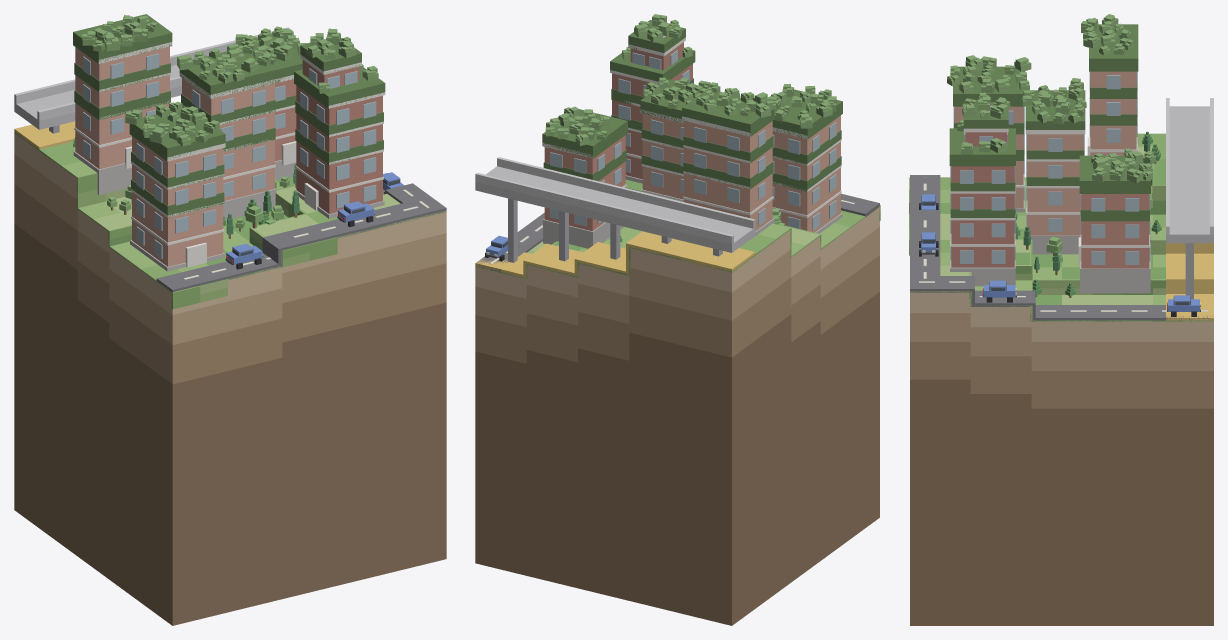
Rendered from block_7_greenroof_50.glb.
3 renders of one model, left to right at view 1: azimuth 30°, elevation 25°; view 2: azimuth 150°, elevation 25°; view 3: azimuth 270°, elevation 25°, orthographic. The views are drawn at different scales.
Parts seen in each view (by area): view 1: Patch_UpperLeft_b04_GR, Green_UpperLeft_j4_b04_GR, Res_UL_09_GR, Res_UL_06_GR, Res_UL_05_GR, Res_UL_08_GR, Roads_UpperLeft_b04_GR, GR_Roof_Res_UL_09_GR, GR_Roof_Res_UL_05_GR, GR_Roof_Res_UL_06_GR, GR_Roof_Res_UL_08_GR, Bridge_UpperLeft_b04_GR (+5 smaller); view 2: Patch_UpperLeft_b04_GR, Bridge_UpperLeft_b04_GR, Res_UL_05_GR, Res_UL_06_GR, Paver_UpperLeft_b04_GR, Res_UL_07_GR, GR_Roof_Res_UL_05_GR, Res_UL_09_GR, Green_UpperLeft_j4_b04_GR, Res_UL_08_GR, GR_Roof_Res_UL_06_GR, GR_Roof_Res_UL_09_GR (+3 smaller); view 3: Patch_UpperLeft_b04_GR, Green_UpperLeft_j4_b04_GR, Bridge_UpperLeft_b04_GR, Res_UL_09_GR, Roads_UpperLeft_b04_GR, Res_UL_07_GR, Res_UL_08_GR, GR_Roof_Res_UL_09_GR, Res_UL_05_GR, Paver_UpperLeft_b04_GR, GR_Roof_Res_UL_05_GR, GR_Roof_Res_UL_07_GR (+5 smaller).
Boxes of the visible parts, <box> form: Patch_UpperLeft_b04_GR: <box>14,133,446,625</box>; Green_UpperLeft_j4_b04_GR: <box>14,131,446,309</box>; Res_UL_09_GR: <box>294,50,385,218</box>; Res_UL_06_GR: <box>130,136,225,271</box>; Res_UL_05_GR: <box>73,42,172,194</box>; Res_UL_08_GR: <box>179,73,277,220</box>; Roads_UpperLeft_b04_GR: <box>156,183,446,292</box>; GR_Roof_Res_UL_09_GR: <box>294,38,385,164</box>; GR_Roof_Res_UL_05_GR: <box>73,14,172,120</box>; GR_Roof_Res_UL_06_GR: <box>129,106,225,217</box>; GR_Roof_Res_UL_08_GR: <box>179,47,277,151</box>; Bridge_UpperLeft_b04_GR: <box>14,27,290,133</box>; Patch_UpperLeft_b04_GR: <box>475,207,879,625</box>; Bridge_UpperLeft_b04_GR: <box>475,157,755,262</box>; Res_UL_05_GR: <box>682,116,774,239</box>; Res_UL_06_GR: <box>772,115,842,233</box>; Paver_UpperLeft_b04_GR: <box>475,231,755,278</box>; Res_UL_07_GR: <box>542,135,626,248</box>; GR_Roof_Res_UL_05_GR: <box>682,90,774,188</box>; Res_UL_09_GR: <box>610,35,692,183</box>; Green_UpperLeft_j4_b04_GR: <box>475,179,880,279</box>; Res_UL_08_GR: <box>640,109,683,201</box>; GR_Roof_Res_UL_06_GR: <box>772,89,842,191</box>; GR_Roof_Res_UL_09_GR: <box>610,20,695,130</box>; Patch_UpperLeft_b04_GR: <box>910,292,1213,625</box>; Green_UpperLeft_j4_b04_GR: <box>909,133,1213,321</box>; Bridge_UpperLeft_b04_GR: <box>1166,98,1213,299</box>; Res_UL_09_GR: <box>950,105,1015,286</box>; Roads_UpperLeft_b04_GR: <box>910,175,1213,321</box>; Res_UL_07_GR: <box>1078,194,1150,293</box>; Res_UL_08_GR: <box>1025,130,1085,254</box>; GR_Roof_Res_UL_09_GR: <box>949,102,1015,217</box>; Res_UL_05_GR: <box>1087,71,1137,155</box>; Paver_UpperLeft_b04_GR: <box>1166,243,1213,321</box>; GR_Roof_Res_UL_05_GR: <box>1089,24,1138,125</box>; GR_Roof_Res_UL_07_GR: <box>1079,155,1150,221</box>.
Bounding box in the file's own units: 9.5 × 16.97 × 9.53.
